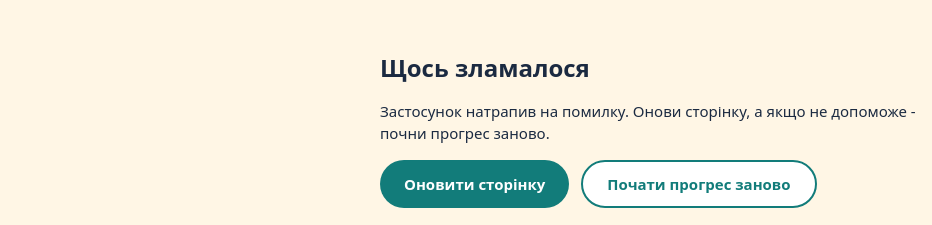
Test: ErrorBoundary › starting the progress over clears it and draws the screen again
Click the button "Почати прогрес заново".
click(699, 184)  # box x1=581 y1=160 x2=817 y2=208
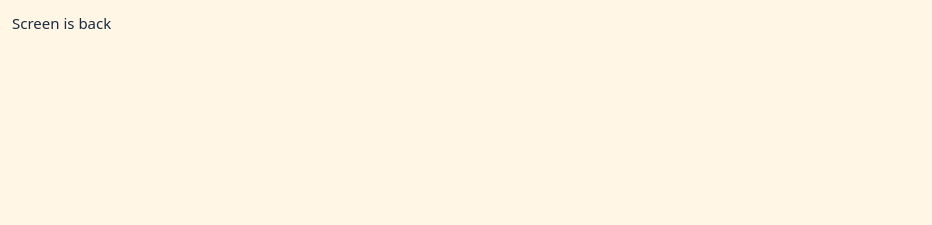
Now the text "Screen is back" is shown, box x1=12 y1=13 x2=111 y2=33
